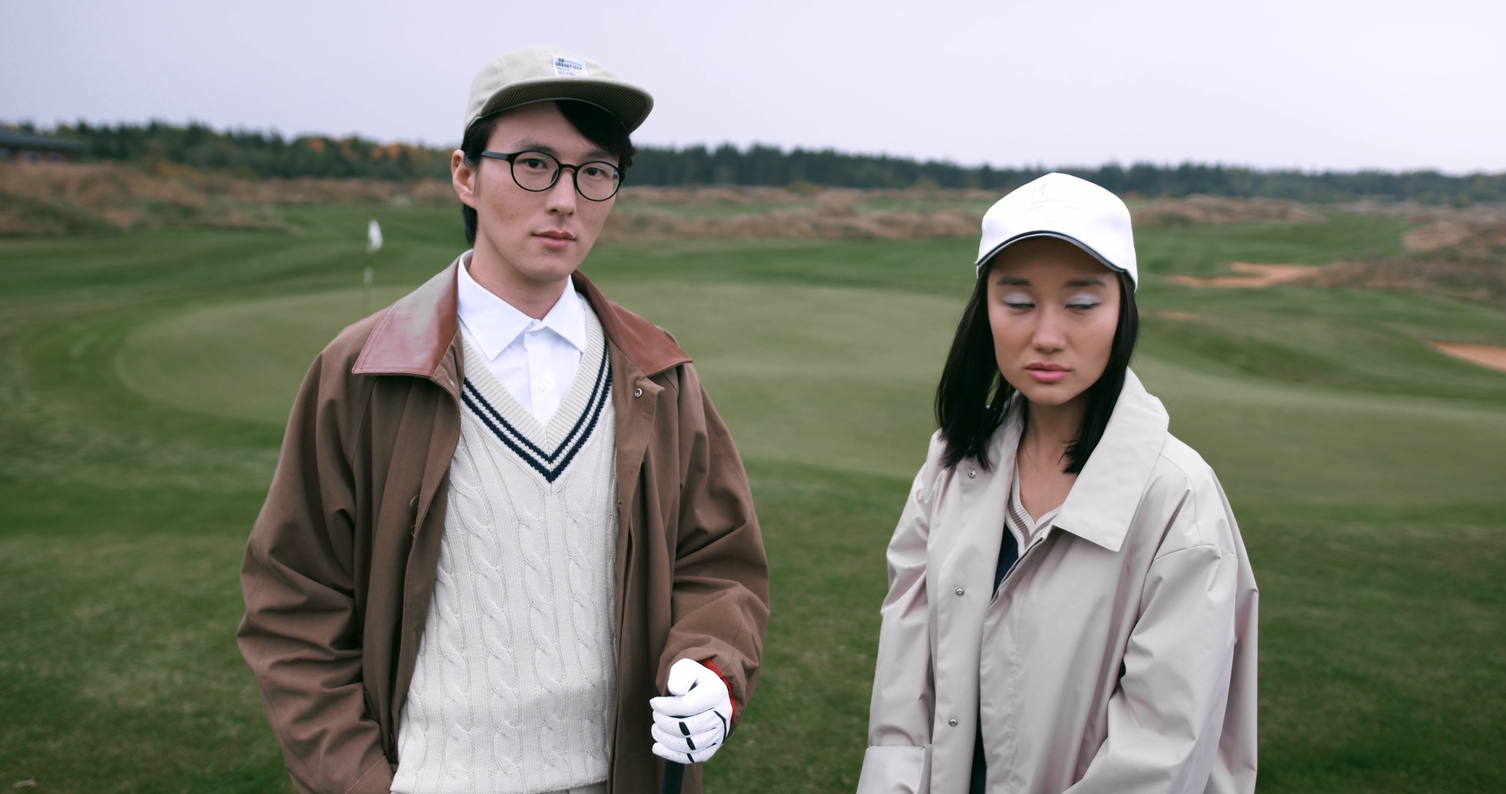gloves: (642, 643, 744, 782)
